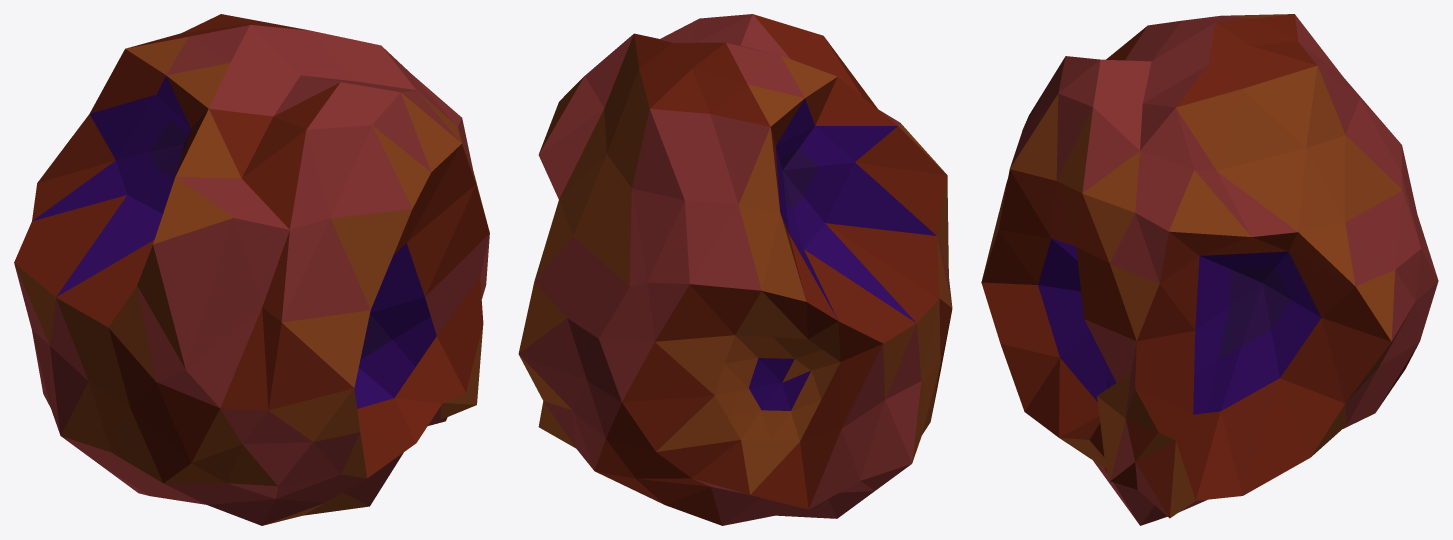
Rendered from Asteroid_2.fbx.
3 renders of one model, left to right at view 1: azimuth 30°, elevation 25°; view 2: azimuth 150°, elevation 25°; view 3: azimuth 270°, elevation 25°, orthographic. The views are drawn at different scales.
Visible parts, largest first — view 1: Icosphere; view 2: Icosphere; view 3: Icosphere.
Part boxes in pixels (x1,y1,x2,y2): Icosphere: [14, 14, 489, 525]; Icosphere: [518, 14, 952, 525]; Icosphere: [981, 14, 1438, 525].
Bounding box in the file's own units: 188 × 217 × 192.
